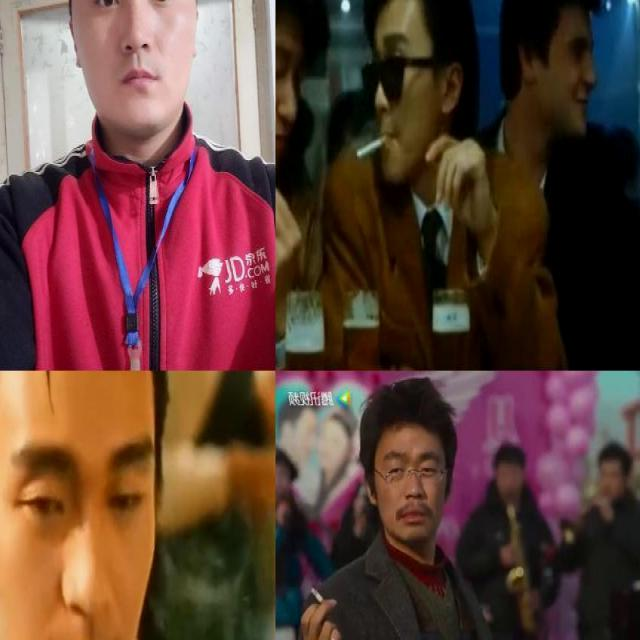cigarette: (354, 132, 388, 160), (310, 586, 326, 606)
